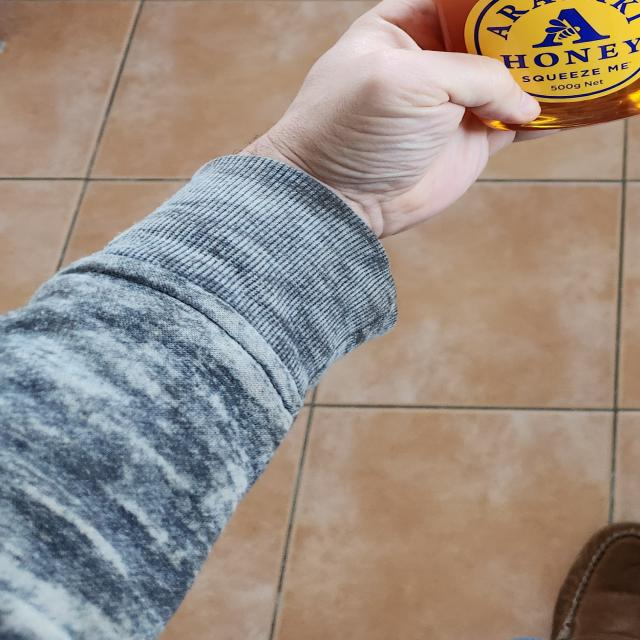honey: (426, 0, 640, 136)
